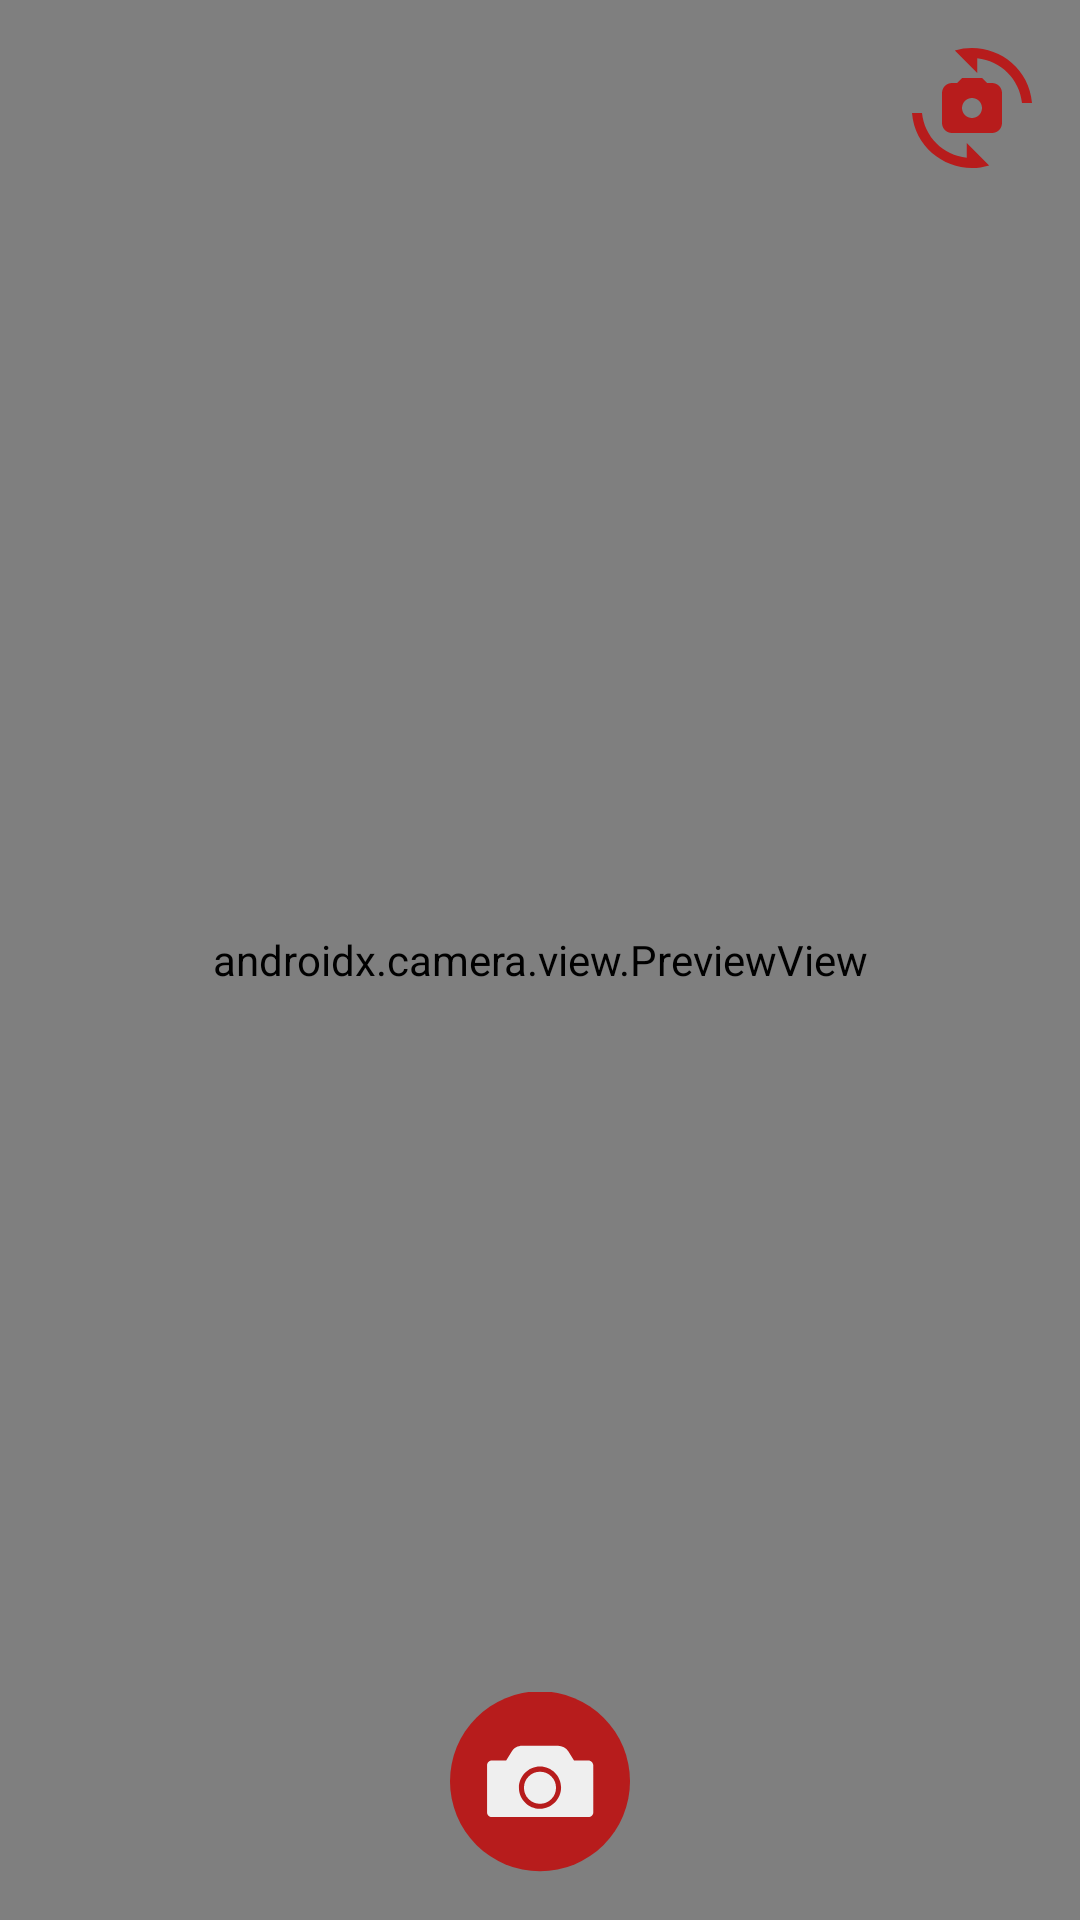

Icon click points for this 1080px×1920px phone screenshot, format point (x, y):
capture: point (540, 1781)
switch camera: point (972, 108)
